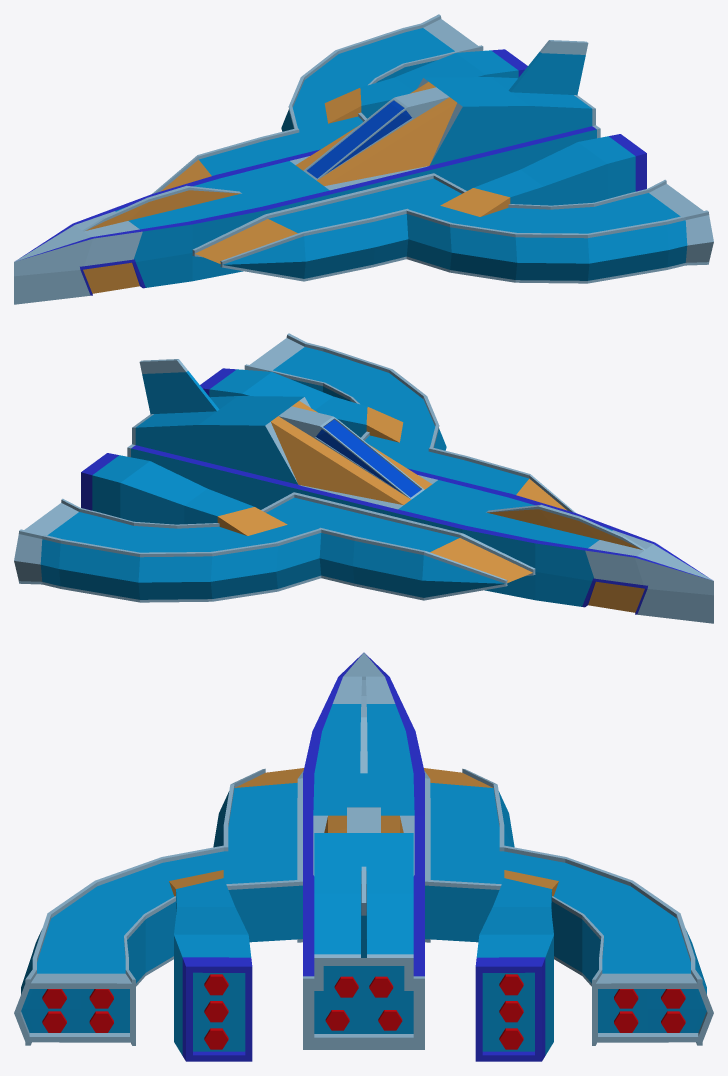
File: spaceship02.fbx
3 renders of one model, top to bottom at view 1: azimuth 30°, elevation 25°; view 2: azimuth 150°, elevation 25°; view 3: azimuth 270°, elevation 25°, orthographic. The views are drawn at different scales.
Visible parts, largest first — view 1: Cube; view 2: Cube; view 3: Cube.
Boxes of the visible parts, x1,y1,x2,y2 form: Cube: (14, 14, 713, 304); Cube: (14, 333, 713, 623); Cube: (14, 652, 713, 1061).
Size of the model in its own units: 261 by 64.57 by 220.
